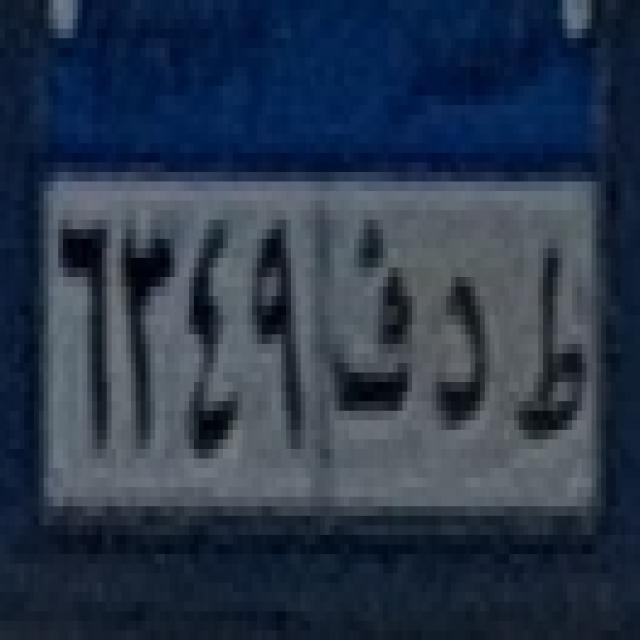3: (116, 208, 174, 462)
4: (178, 214, 244, 463)
6: (51, 208, 119, 464)
9: (242, 221, 313, 454)
F: (328, 205, 425, 452)
Taa: (512, 239, 594, 457)
daal: (431, 256, 497, 447)
